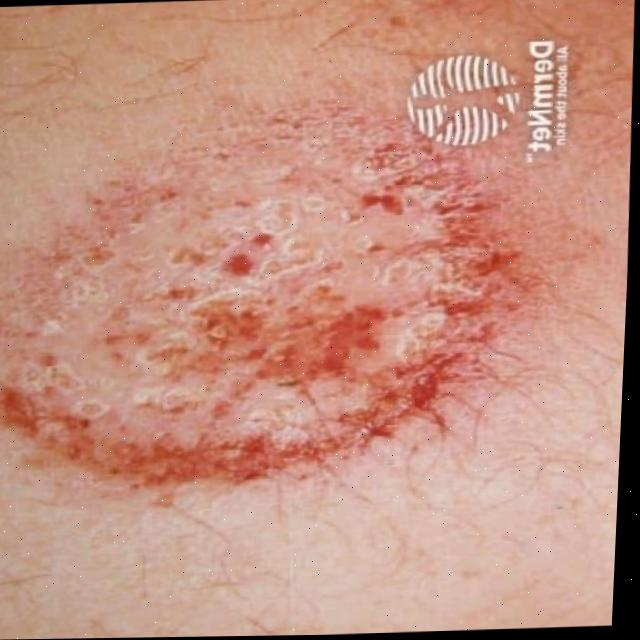Eczema: (38, 152, 450, 461)
